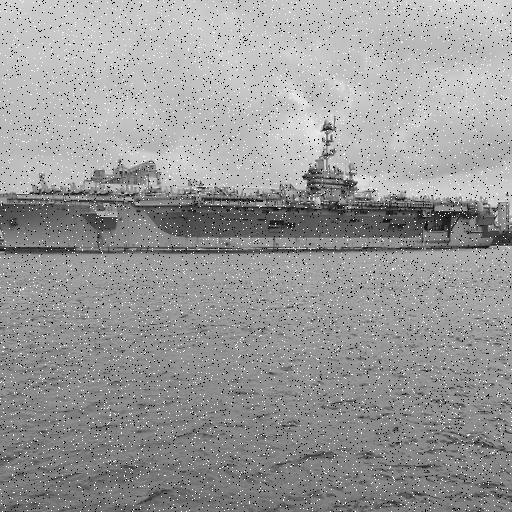Portanaves: (1, 109, 507, 259)
